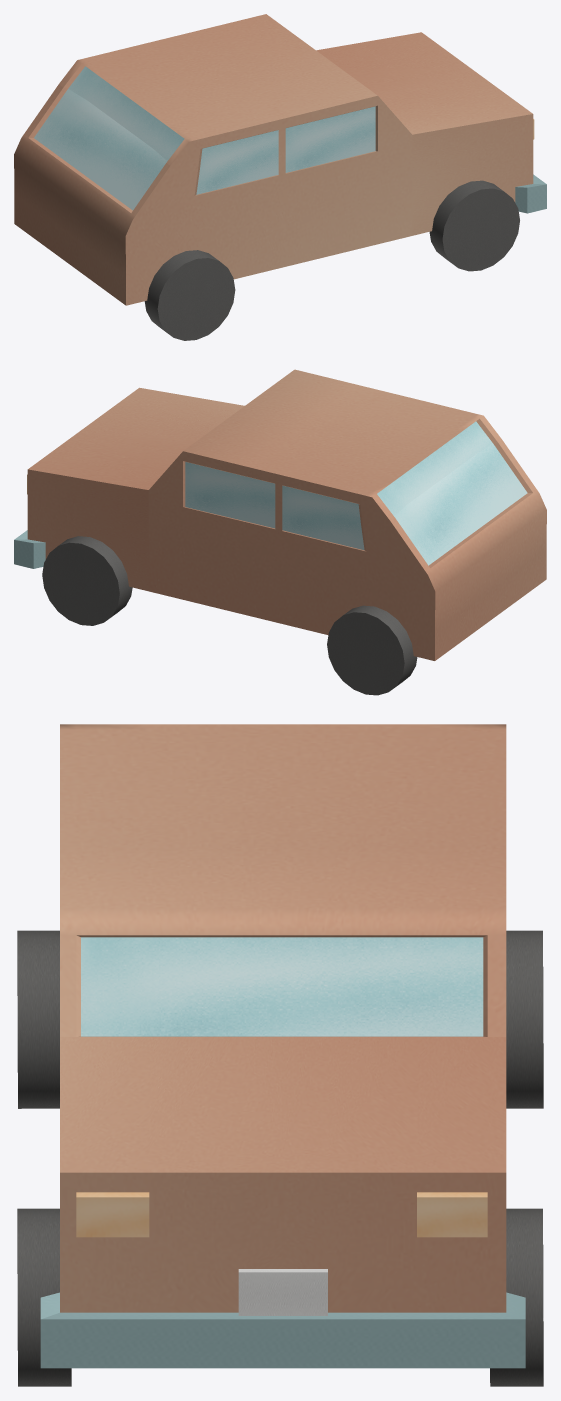
Rendered from RedCar.fbx.
3 renders of one model, top to bottom at view 1: azimuth 30°, elevation 25°; view 2: azimuth 150°, elevation 25°; view 3: azimuth 270°, elevation 25°, orthographic. The views are drawn at different scales.
Visible parts, largest first — view 1: CarModel; view 2: CarModel; view 3: CarModel.
Boxes of the visible parts, x1=… form: CarModel: x1=14, y1=14, x2=546, y2=340; CarModel: x1=14, y1=369, x2=546, y2=695; CarModel: x1=17, y1=724, x2=543, y2=1386.
Bounding box in the file's own units: 269 × 117 × 147.
Materials: 1 (1 with a texture image).
